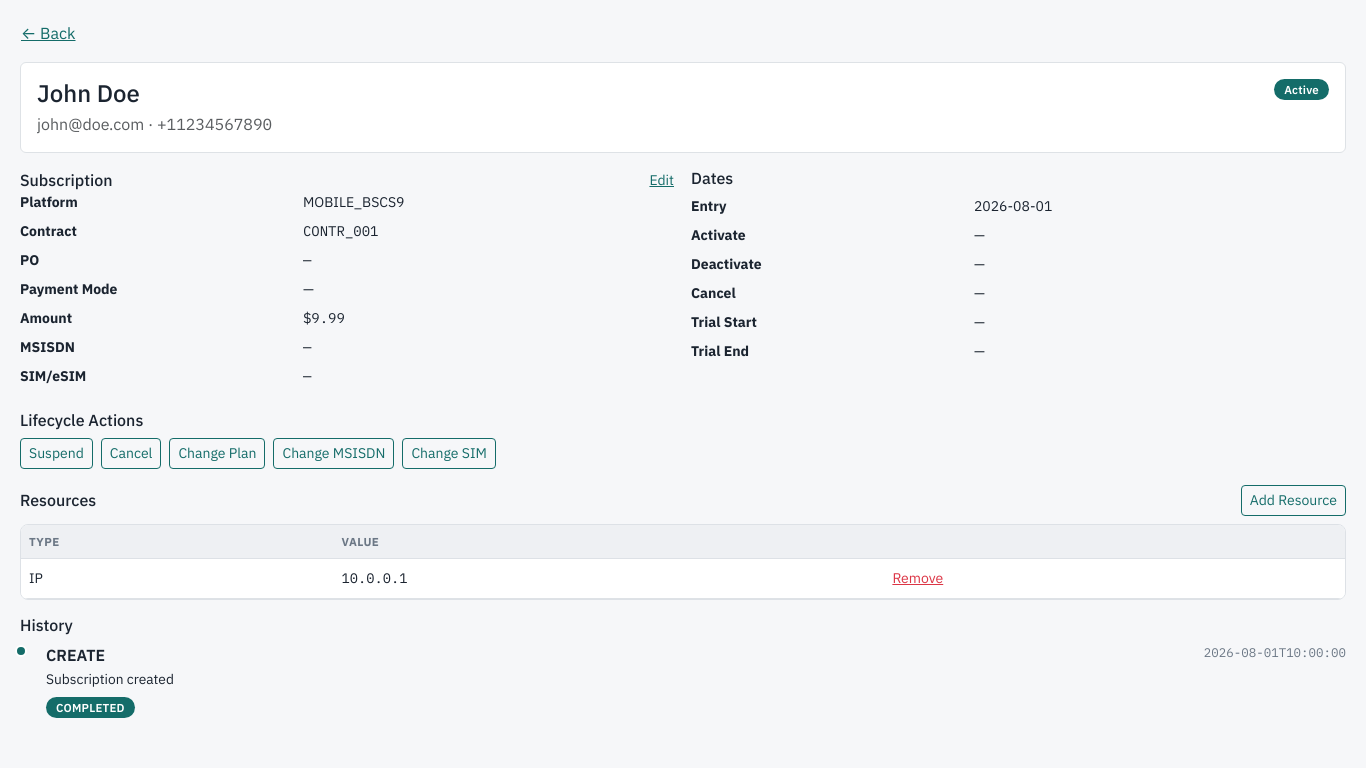
Test: removing a resource refreshes the resources list
The image size is (1366, 768).
Expected: the heading "John Doe" is shown, top-left (37, 77), bottom-right (140, 109)
Expected: the text "10.0.0.1" is shown, top-left (334, 559), bottom-right (883, 599)
Click the button "Remove" at (918, 579), box top-left (891, 567), bottom-right (944, 590)
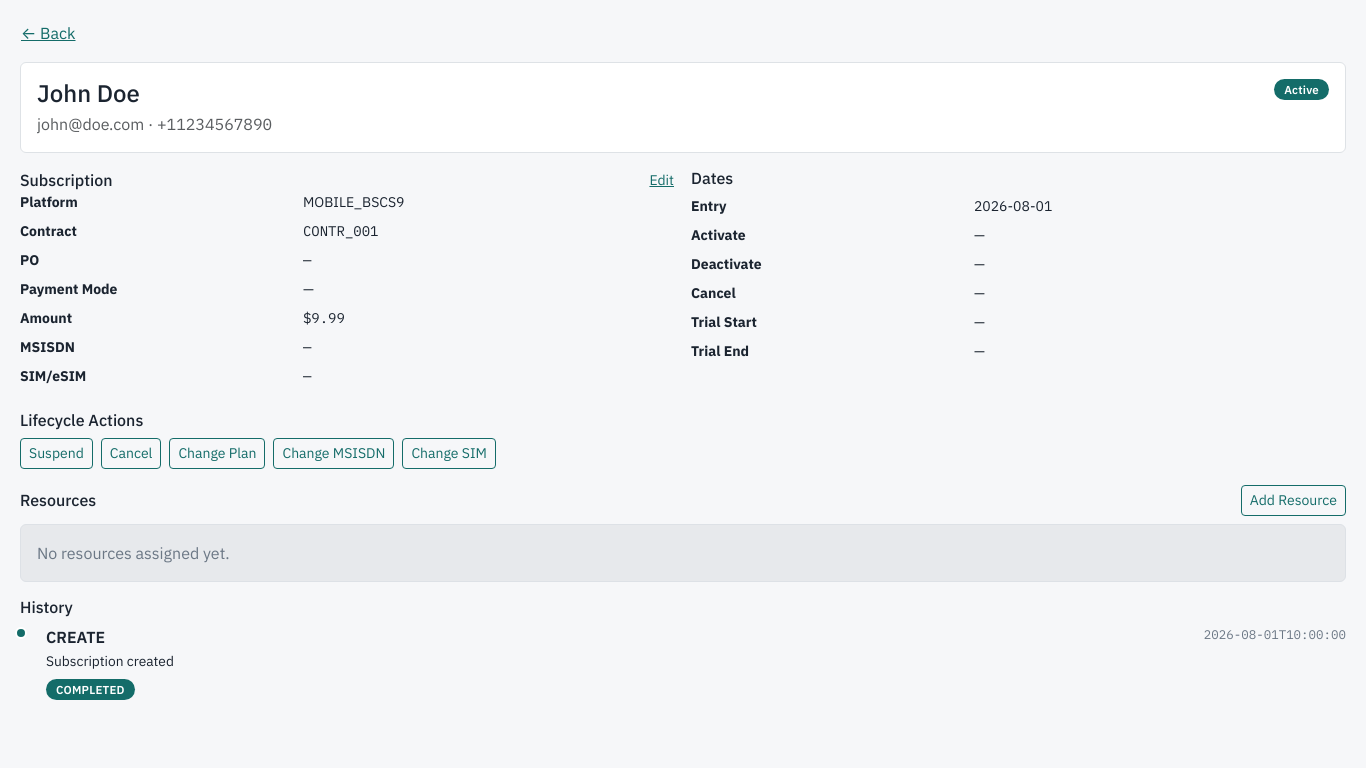
Expected: the text "No resources assigned yet." is shown, top-left (20, 524), bottom-right (1346, 582)
